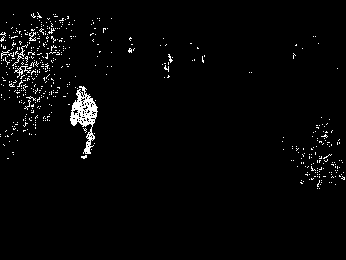person: (68, 84, 102, 164)
